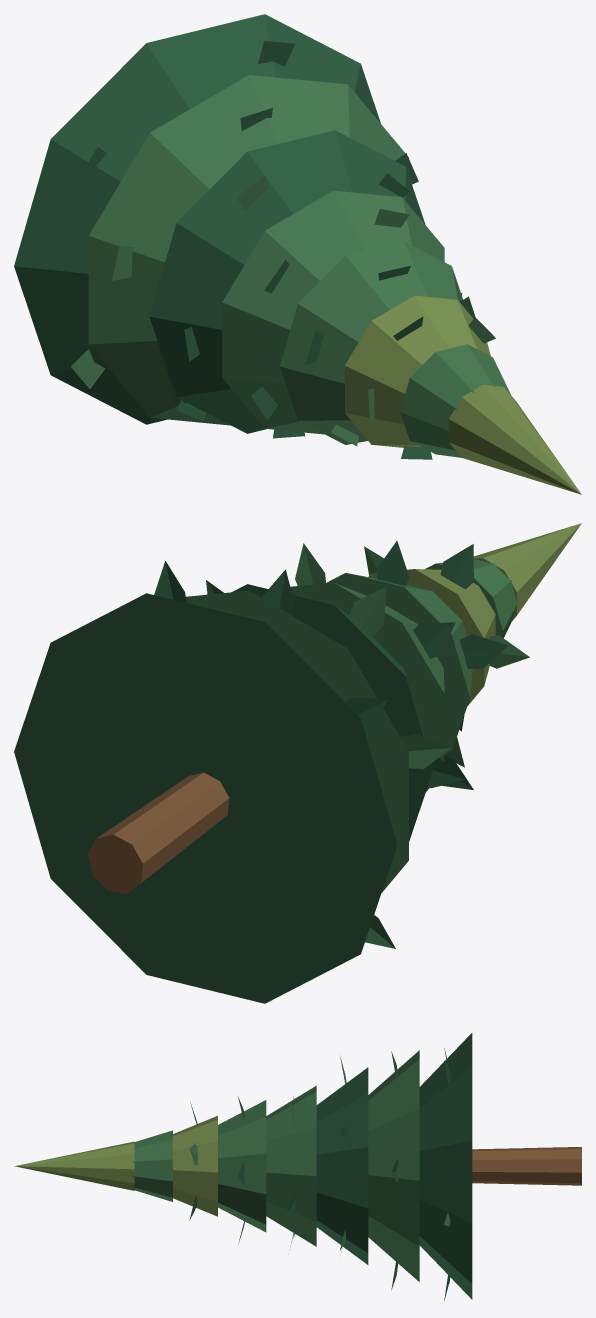
Rendered from pine-tree-01.glb.
3 views of the same model, one above another, from view 1: azimuth 30°, elevation 25°; view 2: azimuth 150°, elevation 25°; view 3: azimuth 270°, elevation 25° (orthographic). The views are drawn at different scales.
Parts seen in each view (by area): view 1: Needles - pine, Needles - shadow, Needles - sun tips; view 2: Needles - shadow, Needles - pine, Trunk - warm bark, Needles - sun tips; view 3: Needles - pine, Needles - shadow, Needles - sun tips, Trunk - warm bark.
Boxes of the visible parts, x1=… form: Needles - pine: x1=71, y1=75, x2=511, y2=457; Needles - shadow: x1=14, y1=14, x2=475, y2=459; Needles - sun tips: x1=345, y1=295, x2=581, y2=494; Needles - shadow: x1=14, y1=540, x2=508, y2=1003; Needles - pine: x1=185, y1=543, x2=529, y2=948; Trunk - warm bark: x1=88, y1=772, x2=229, y2=893; Needles - sun tips: x1=368, y1=523, x2=581, y2=706; Needles - pine: x1=132, y1=1050, x2=450, y2=1281; Needles - shadow: x1=189, y1=1033, x2=472, y2=1301; Needles - sun tips: x1=14, y1=1116, x2=217, y2=1216; Trunk - warm bark: x1=472, y1=1147, x2=581, y2=1185.
Bounding box in the file's own units: 2.49 × 2.46 × 5.18.
